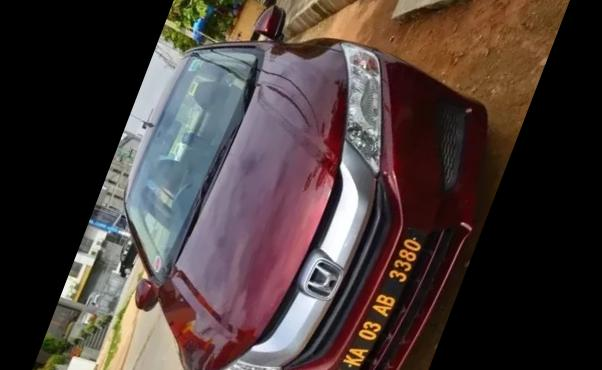plate: (329, 214, 430, 370)
